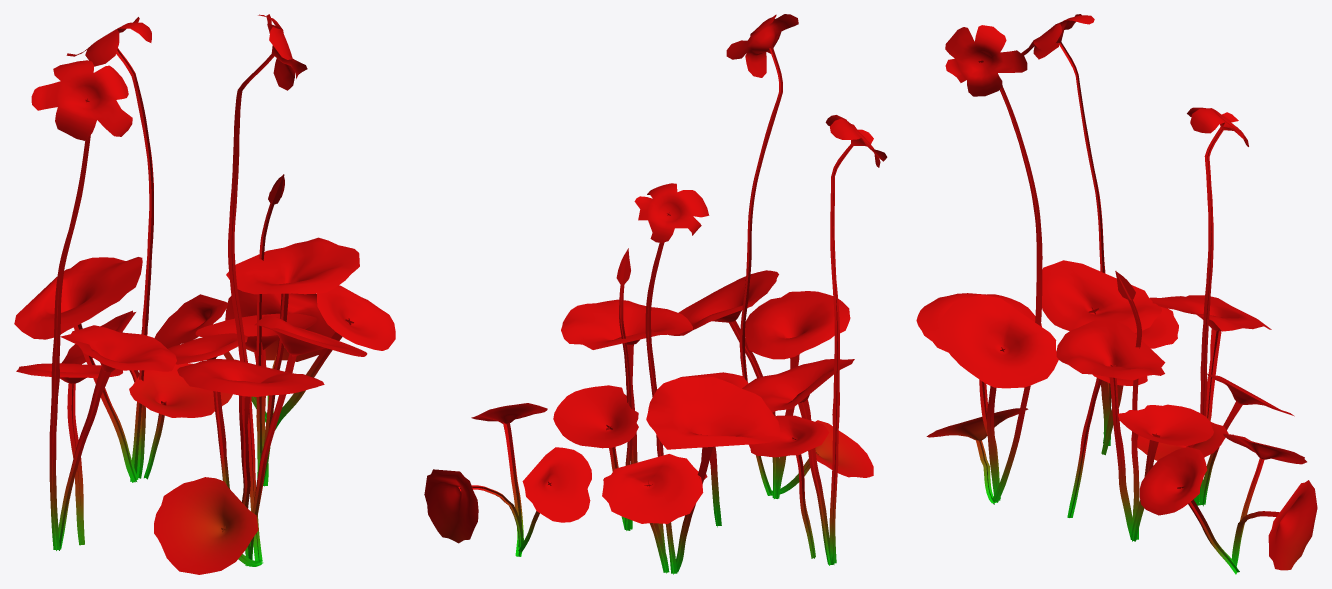
Rendered from Native Violet_LOD0_Var13_ultkcfeja.fbx.
3 renders of one model, left to right at view 1: azimuth 30°, elevation 25°; view 2: azimuth 150°, elevation 25°; view 3: azimuth 270°, elevation 25°, orthographic. The views are drawn at different scales.
Visible parts, largest first — view 1: _r1vd_Var13_LOD0; view 2: _r1vd_Var13_LOD0; view 3: _r1vd_Var13_LOD0.
Part boxes in pixels (x1,y1,x2,y2): _r1vd_Var13_LOD0: [14, 14, 395, 574]; _r1vd_Var13_LOD0: [424, 14, 887, 574]; _r1vd_Var13_LOD0: [916, 14, 1317, 574].
Bounding box in the file's own units: 19.48 × 24.6 × 18.4.
